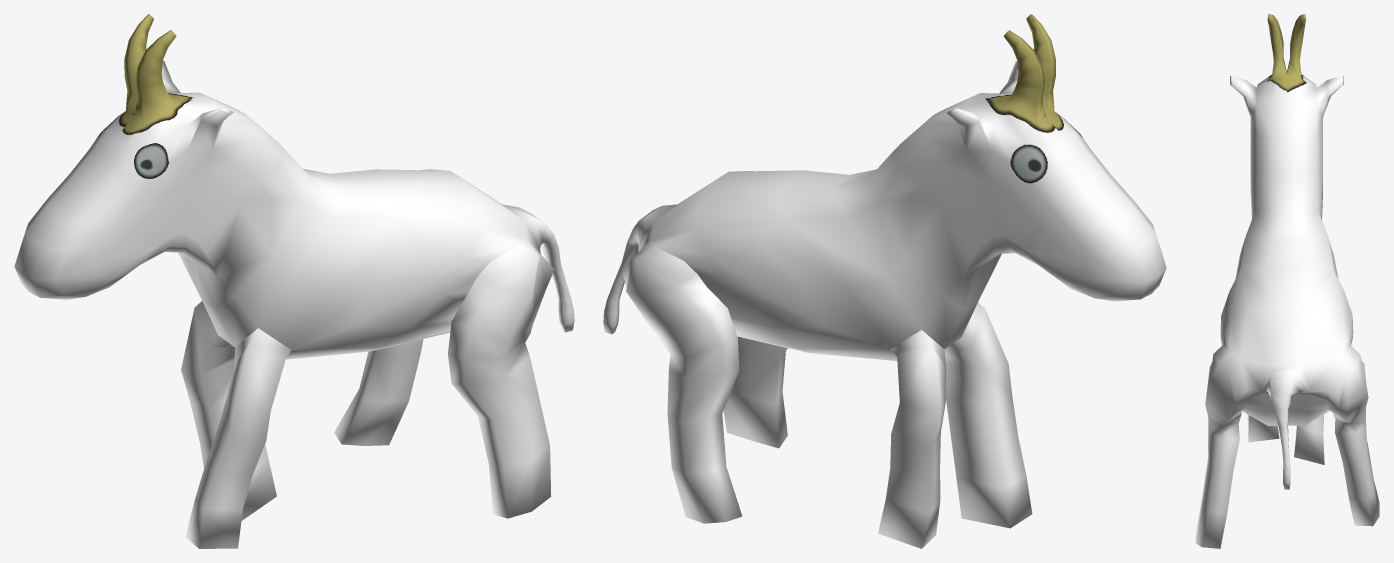
Rendered from goatAnim_000018.obj.
The picture shows the model from 3 angles, left to right: view 1: azimuth 30°, elevation 25°; view 2: azimuth 150°, elevation 25°; view 3: azimuth 270°, elevation 25°; orthographic projection. The views are drawn at different scales.
Visible parts, largest first — view 1: Cube; view 2: Cube; view 3: Cube.
Part boxes in pixels (x1,y1,x2,y2): Cube: (14, 14, 574, 548); Cube: (603, 14, 1166, 548); Cube: (1195, 14, 1379, 548).
Bounding box in the file's own units: 1.31 × 1.2 × 0.4842.
